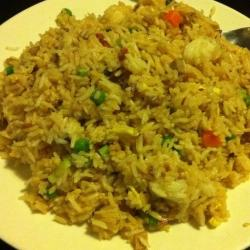rice: (13, 26, 235, 224)
